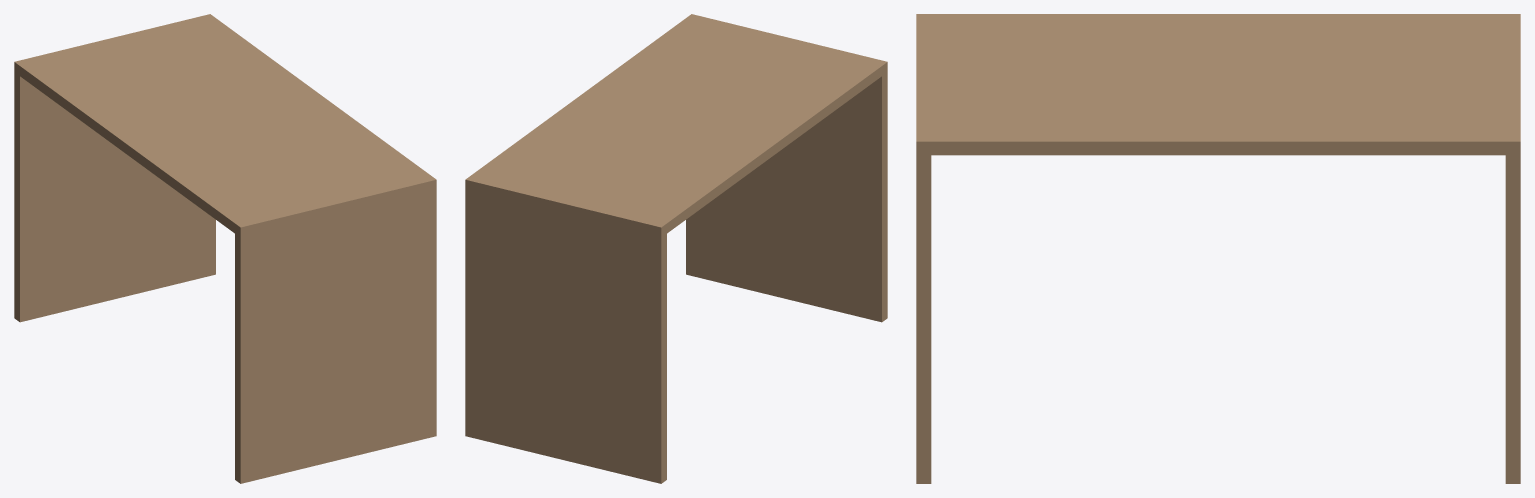
File: desk-1200.glb
3 views of the same model, side by side, from view 1: azimuth 30°, elevation 25°; view 2: azimuth 150°, elevation 25°; view 3: azimuth 270°, elevation 25° (orthographic). The views are drawn at different scales.
Parts seen in each view (by area): view 1: desk-1200; view 2: desk-1200; view 3: desk-1200.
Boxes of the visible parts, x1,y1,x2,y2 form: desk-1200: (14,14,436,483); desk-1200: (465,14,887,483); desk-1200: (916,14,1520,483).
Size of the model in its own units: 0.6 by 0.75 by 1.2.
